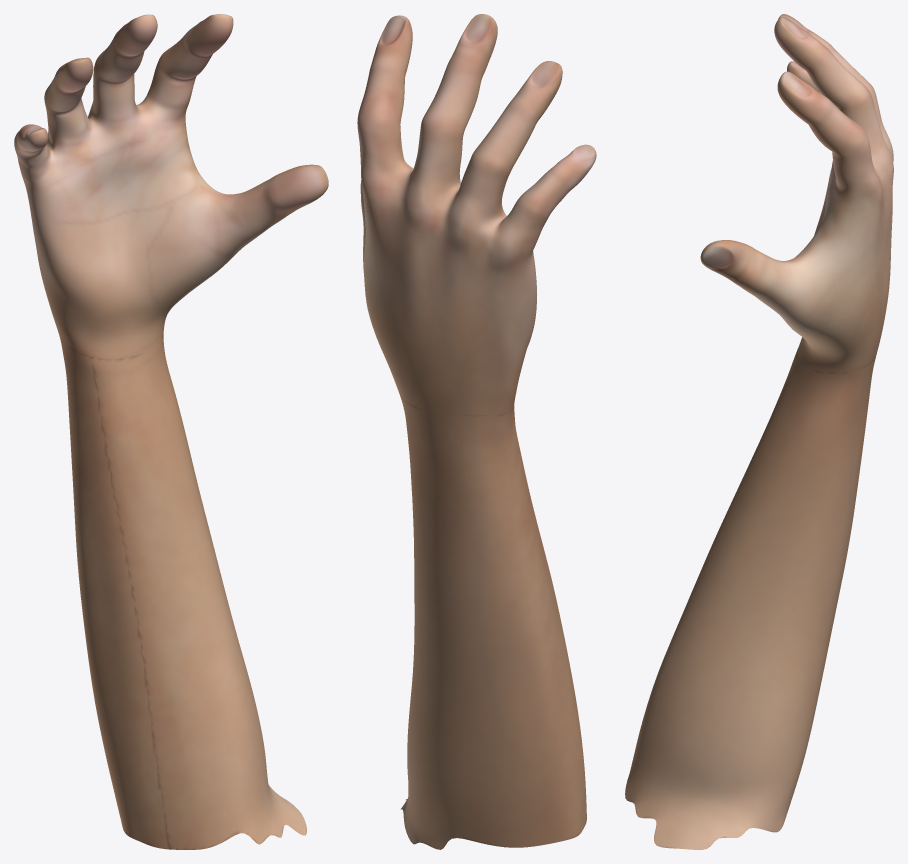
The model's file is sora-hands.glb.
The picture shows the model from 3 angles, left to right: view 1: azimuth 30°, elevation 25°; view 2: azimuth 150°, elevation 25°; view 3: azimuth 270°, elevation 25°; orthographic projection. The views are drawn at different scales.
Parts seen in each view (by area): view 1: sora_hand; view 2: sora_hand; view 3: sora_hand.
Part boxes in pixels (x1,y1,x2,y2): sora_hand: [14, 14, 328, 849]; sora_hand: [357, 14, 596, 849]; sora_hand: [625, 14, 893, 849].
Size of the model in its own units: 0.1201 by 0.3591 by 0.1121.
1 material, 1 textured.
